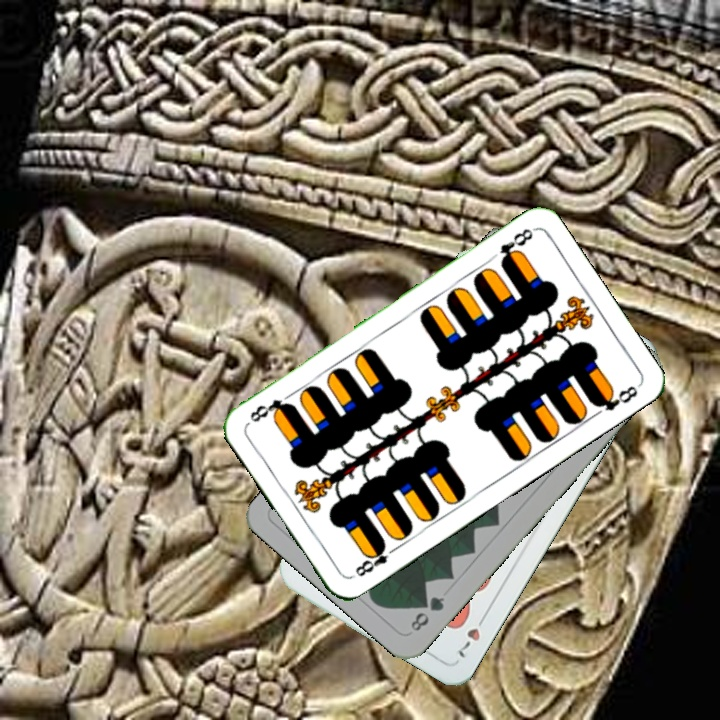E8: (348, 539, 400, 581), (496, 224, 537, 268)
G8: (406, 592, 448, 634)
H7: (452, 609, 490, 661)
